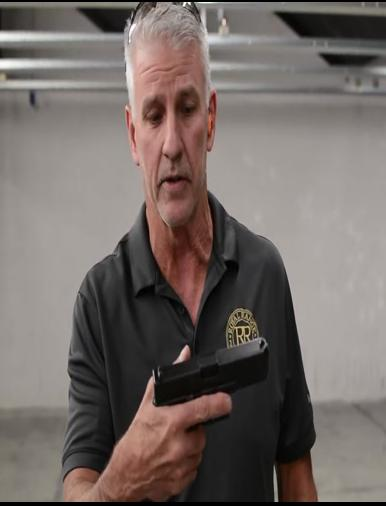pistol: (146, 335, 272, 495)
